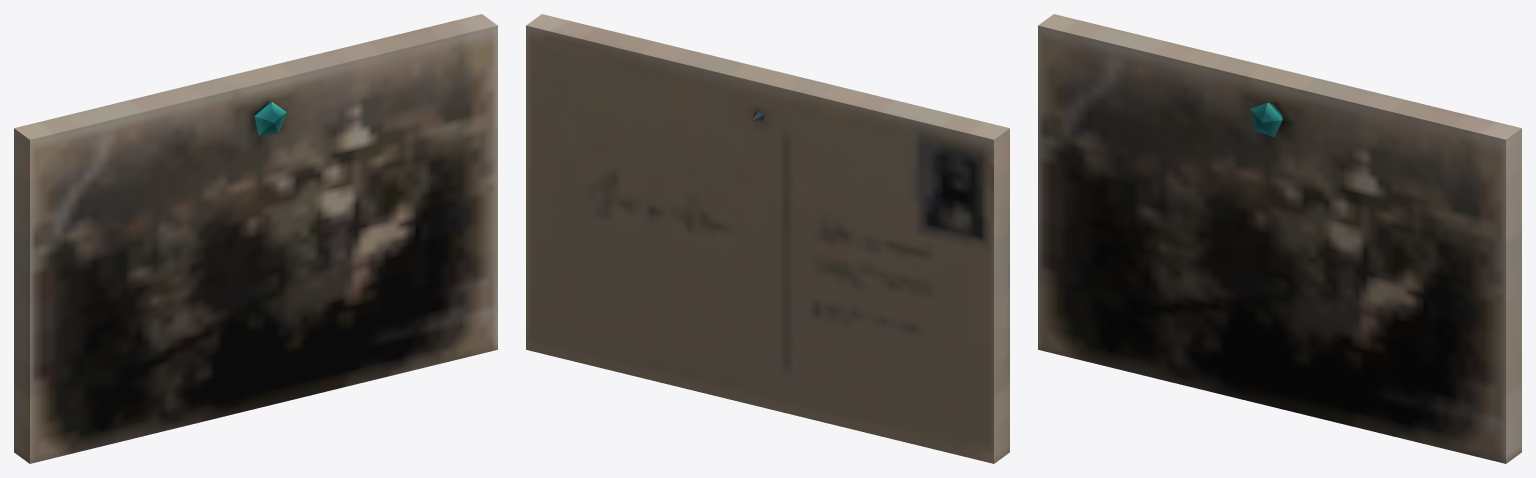
Rendered from postal3.6.fbx.
3 views of the same model, side by side, from view 1: azimuth 30°, elevation 25°; view 2: azimuth 150°, elevation 25°; view 3: azimuth 330°, elevation 25° (orthographic).
Parts seen in each view (by area): view 1: s4studio_mesh_0; view 2: s4studio_mesh_0; view 3: s4studio_mesh_0.
Part boxes in pixels (x1=…): s4studio_mesh_0: x1=14, y1=14, x2=497, y2=463; s4studio_mesh_0: x1=526, y1=14, x2=1009, y2=463; s4studio_mesh_0: x1=1038, y1=14, x2=1521, y2=463.
Bounding box in the file's own units: 24.03 × 15.9 × 2.99.
Materials: 1 (1 with a texture image).
